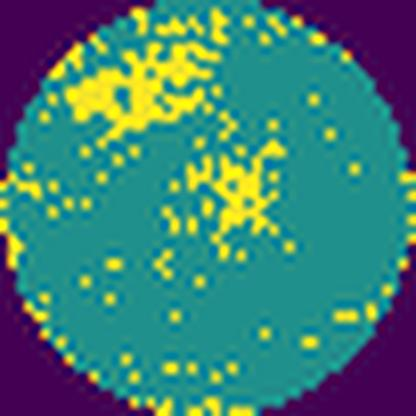Loc: (62, 35, 223, 147), (185, 137, 294, 252)
